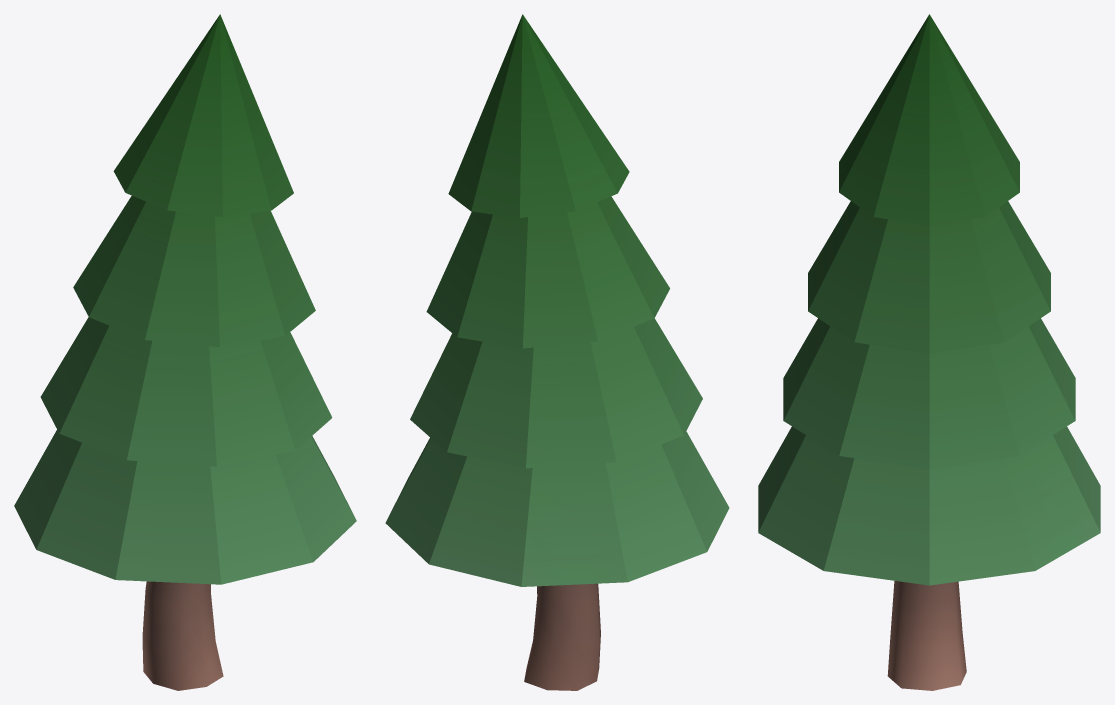
The model's file is SM_Exterior_Arbol_03.fbx.
The picture shows the model from 3 angles, left to right: view 1: azimuth 30°, elevation 25°; view 2: azimuth 150°, elevation 25°; view 3: azimuth 270°, elevation 25°; orthographic projection. The views are drawn at different scales.
Visible parts, largest first — view 1: SM_Exterior_Arbol3; view 2: SM_Exterior_Arbol3; view 3: SM_Exterior_Arbol3.
Part boxes in pixels (x1=…): SM_Exterior_Arbol3: x1=14, y1=14, x2=356, y2=690; SM_Exterior_Arbol3: x1=385, y1=14, x2=729, y2=690; SM_Exterior_Arbol3: x1=758, y1=14, x2=1100, y2=690.
Bounding box in the file's own units: 410 × 853 × 390.
